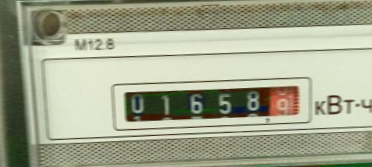0: (130, 91, 144, 114)
1: (160, 93, 171, 116)
5: (217, 91, 232, 114)
6: (188, 91, 203, 114)
8: (245, 88, 260, 111)
9: (274, 96, 289, 117)
screen: (105, 67, 320, 138)
